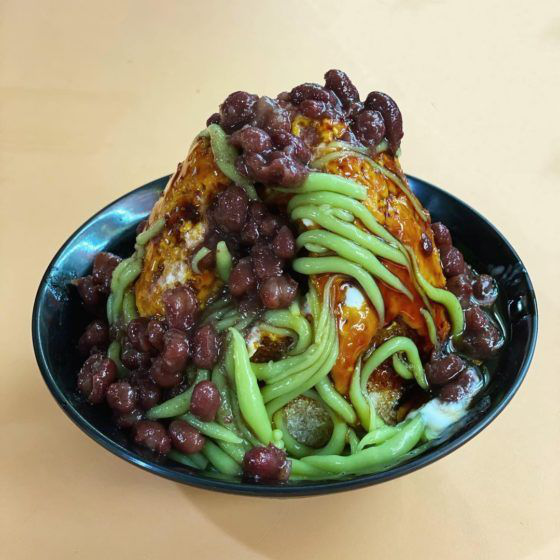Chendol: (58, 59, 535, 489)
